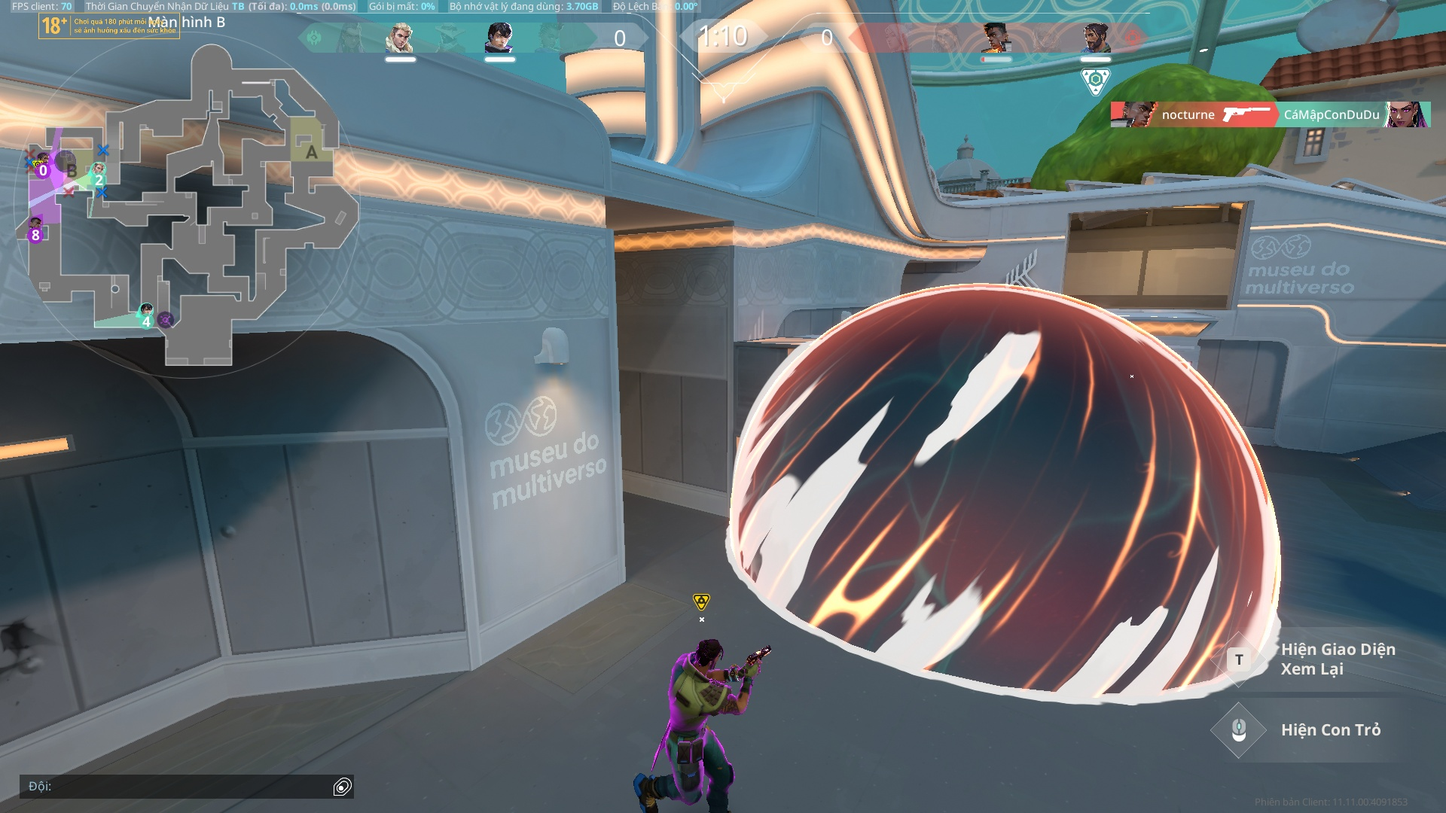body: (667, 655, 712, 733)
head: (691, 634, 725, 677)
